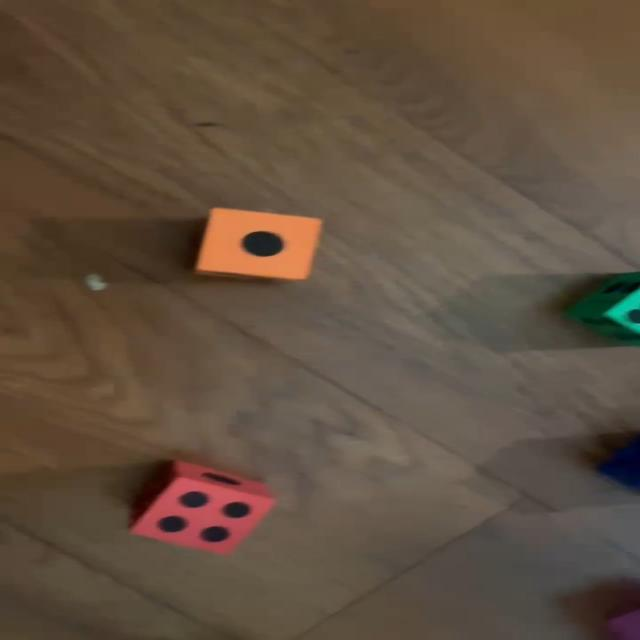blue_block: (602, 438, 640, 493)
red_block: (130, 461, 273, 555)
